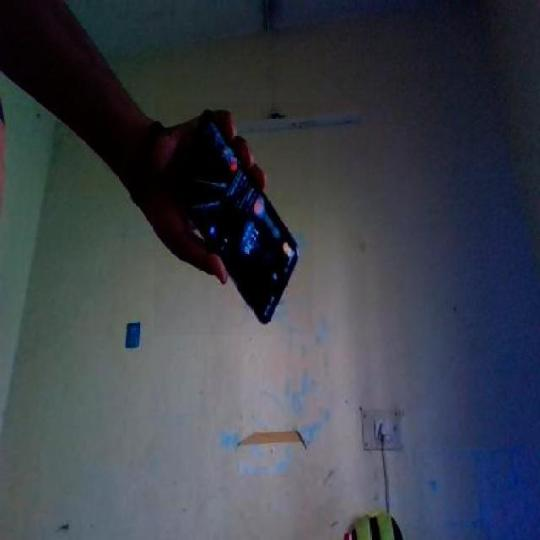phone: (155, 119, 309, 326)
